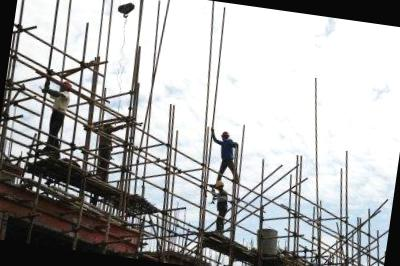person: (34, 76, 76, 164), (203, 128, 244, 184), (202, 179, 232, 240)
